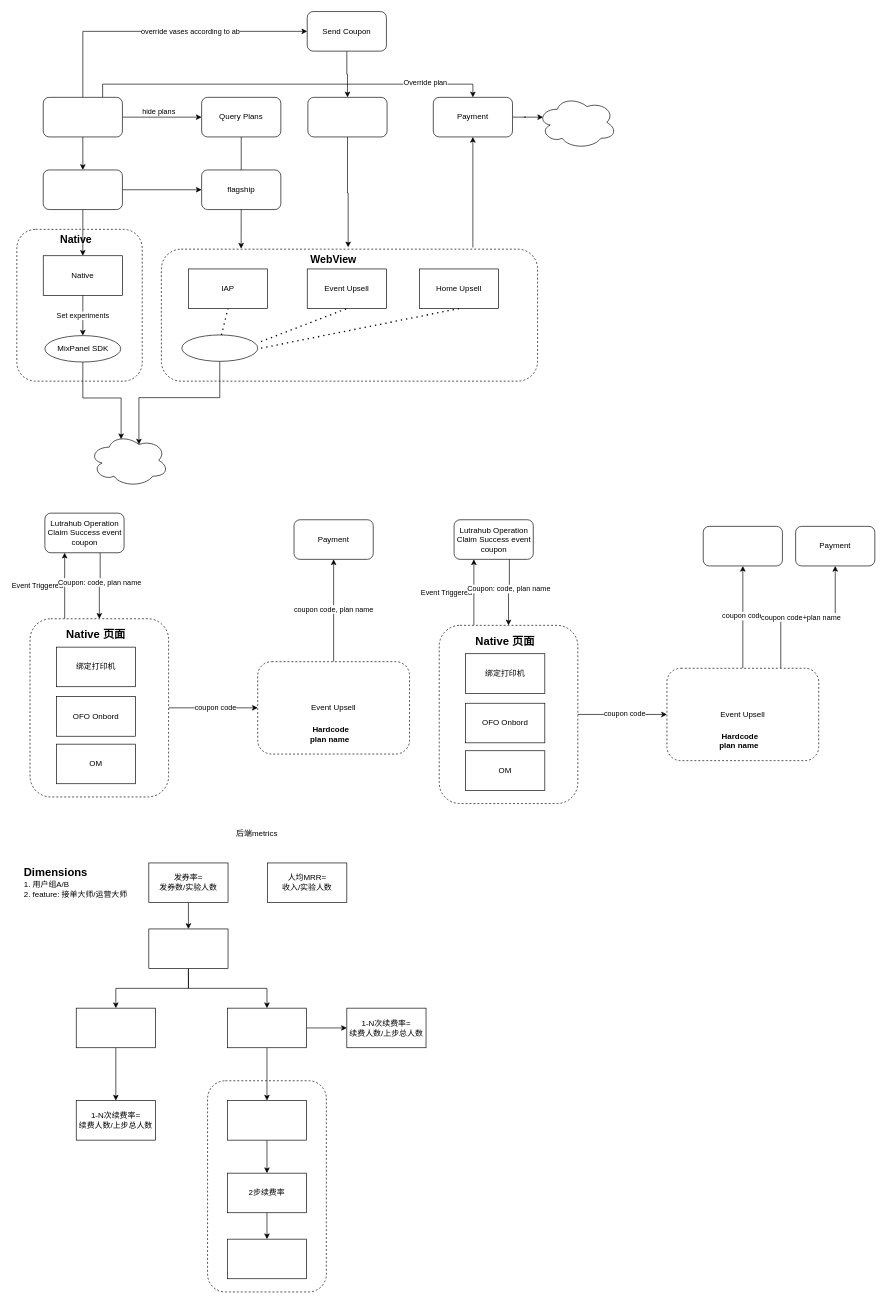
Image size: 886x1304. Some labels were removed from this diagram. The shapes that lost their labels are listed below. From the top down, each one's centre as x and y in pixels, then its label:
At point (82, 117): "ABTest 2 experiments".
At point (347, 117): "Coupons".
At point (577, 122): "AliCloud".
At point (82, 189): "Ottergate users/me".
At point (219, 347): "MixPanel Webview SDK".
At point (129, 460): "MixPanel".
At point (742, 546): "Query Coupon".
At point (188, 948): "核销率= 核销数/发券数".
At point (115, 1027): "自动续费核销率= 打开自动续费的核销数/发券数".
At point (267, 1027): "非自动续费核销率= 关闭自动续费的核销数/发券数".
At point (267, 1120): "1步续费率".
At point (267, 1258): "3步续费率".
